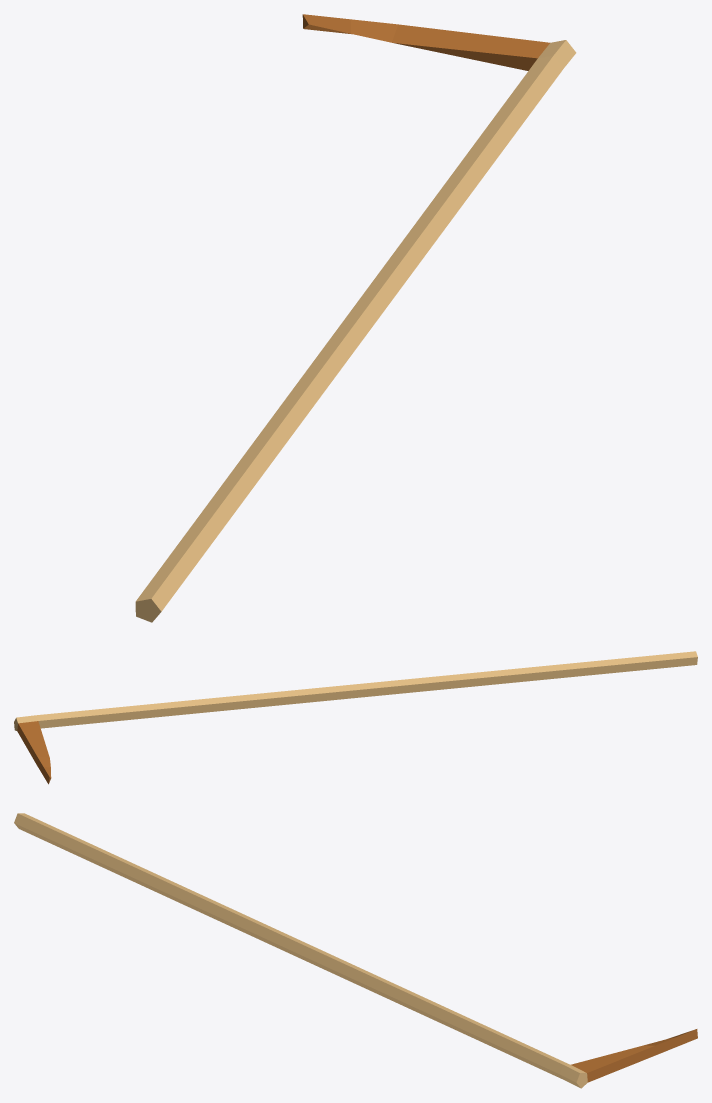
Rendered from copper_scythe.glb.
3 renders of one model, top to bottom at view 1: azimuth 30°, elevation 25°; view 2: azimuth 150°, elevation 25°; view 3: azimuth 270°, elevation 25°, orthographic. The views are drawn at different scales.
Visible parts, largest first — view 1: copper_scythe; view 2: copper_scythe; view 3: copper_scythe.
Part boxes in pixels (box(x1,y1,x2,y2)): copper_scythe: box(135, 14, 576, 622); copper_scythe: box(14, 651, 697, 784); copper_scythe: box(14, 813, 697, 1088).
Size of the model in its own units: 0.8384 by 0.0253 by 0.9223.
